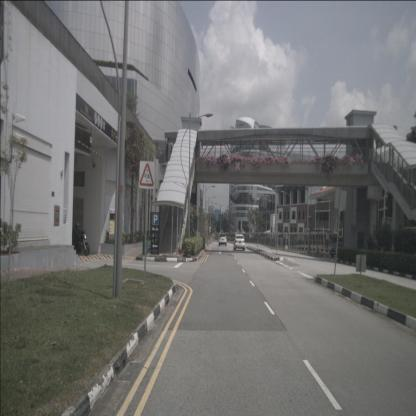vehicle-car: (328, 235, 358, 258), (234, 234, 245, 251), (218, 233, 227, 246)
vehicle-motorcycle: (66, 221, 90, 256)
